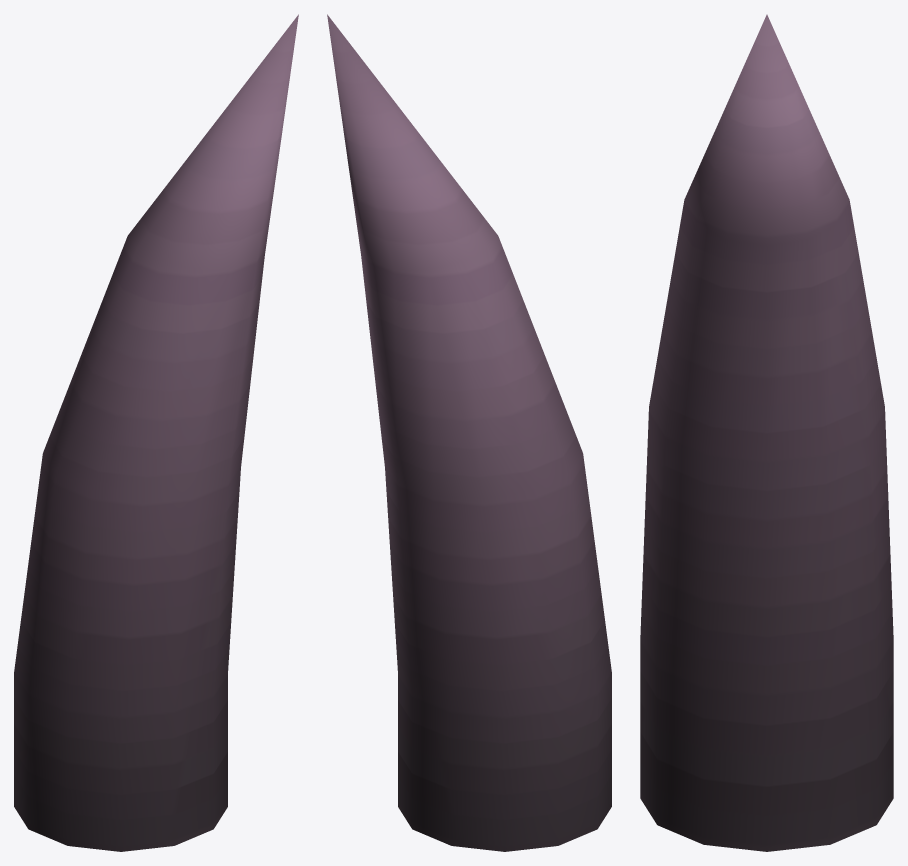
Rendered from SM_Mid_Rib.fbx.
The picture shows the model from 3 angles, left to right: view 1: azimuth 30°, elevation 25°; view 2: azimuth 150°, elevation 25°; view 3: azimuth 270°, elevation 25°; orthographic projection. The views are drawn at different scales.
Visible parts, largest first — view 1: Mid_Rib; view 2: Mid_Rib; view 3: Mid_Rib.
Part boxes in pixels (bbox=[...]): Mid_Rib: bbox=[14, 14, 298, 851]; Mid_Rib: bbox=[327, 14, 611, 851]; Mid_Rib: bbox=[640, 14, 893, 851].
Size of the model in its own units: 11.86 by 31.4 by 8.13.
1 material, 1 textured.
